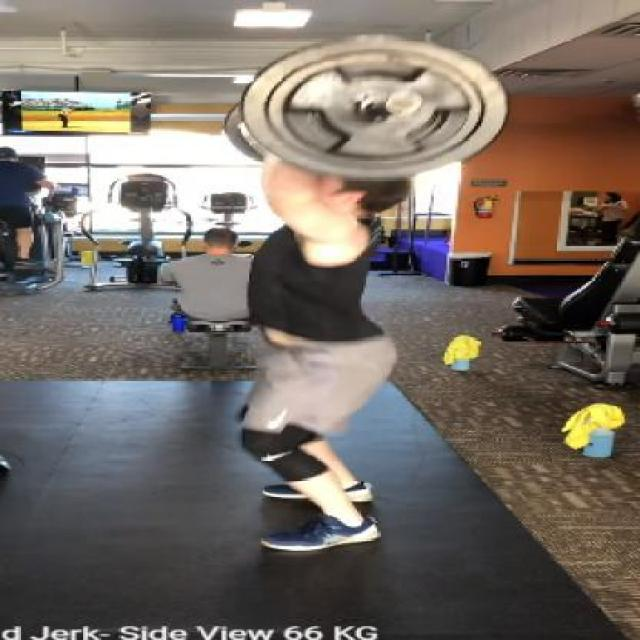Barbell: (378, 90, 432, 118)
